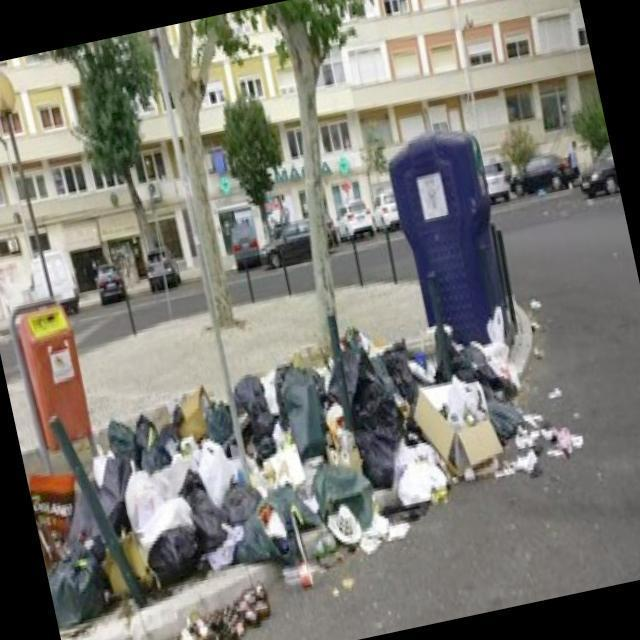garbage: (7, 269, 608, 640), (153, 582, 283, 640)
